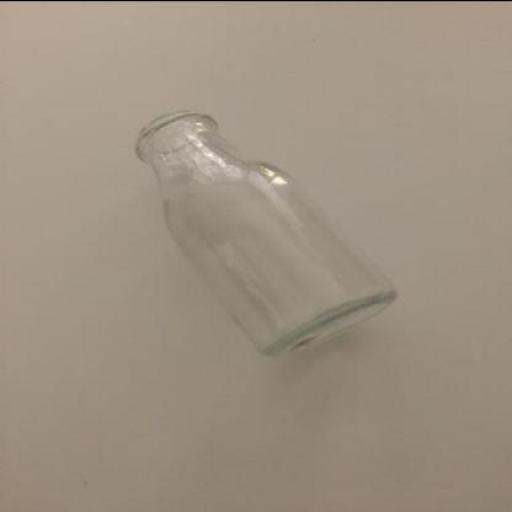glass: (138, 109, 399, 353)
